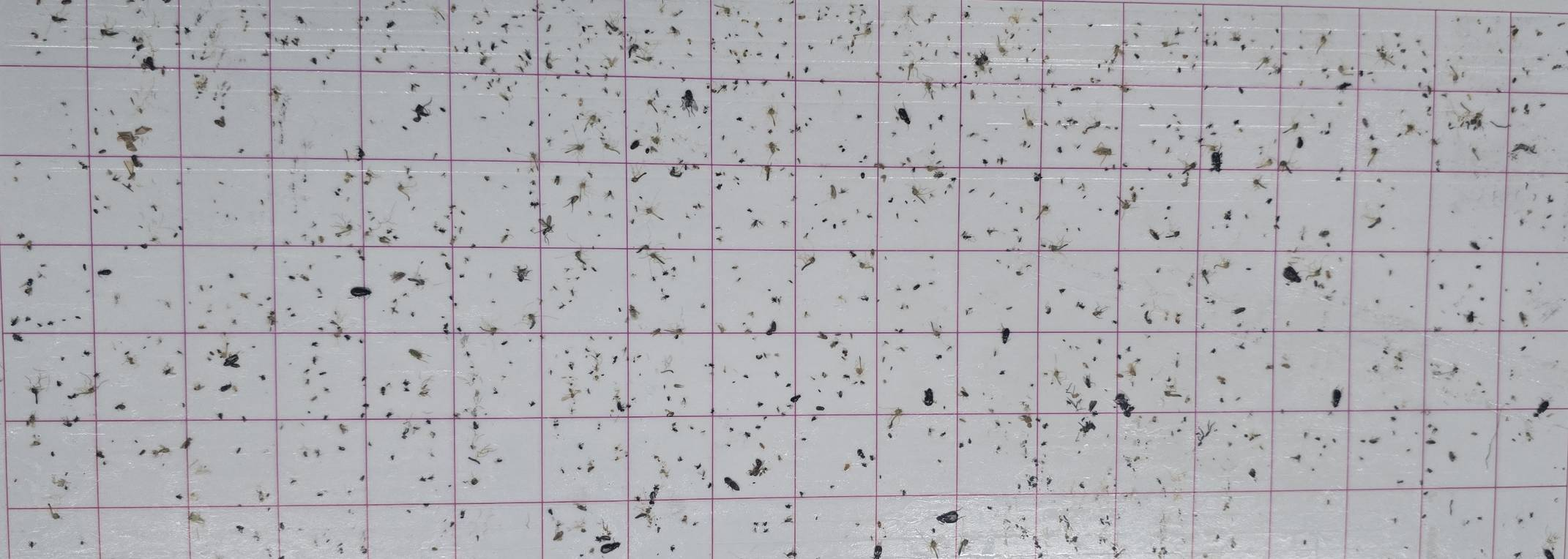fly: (681, 88, 699, 119), (1208, 149, 1224, 174)
test: (1114, 392, 1136, 419), (116, 129, 140, 152), (1462, 111, 1484, 132), (935, 508, 962, 525), (534, 215, 555, 236), (887, 407, 905, 429), (1532, 398, 1550, 420), (1109, 42, 1126, 65), (747, 458, 767, 477), (1512, 141, 1538, 155), (412, 104, 430, 123), (928, 538, 944, 559), (910, 184, 926, 205), (852, 24, 874, 39), (1365, 146, 1380, 168), (972, 51, 990, 69), (1378, 50, 1397, 67), (1000, 323, 1014, 346), (645, 206, 665, 222), (895, 105, 911, 125), (1083, 118, 1103, 134), (582, 111, 597, 132), (1092, 144, 1113, 159), (1022, 107, 1036, 129), (1033, 204, 1051, 221), (1279, 158, 1297, 175), (1281, 120, 1300, 136), (349, 284, 372, 297), (396, 184, 412, 202), (600, 541, 622, 554), (766, 105, 779, 127), (929, 320, 944, 339), (713, 2, 732, 17), (1255, 157, 1274, 172), (957, 537, 971, 557), (478, 323, 499, 336), (1330, 387, 1343, 408), (336, 223, 353, 239), (724, 476, 741, 492), (1253, 55, 1270, 71), (604, 141, 622, 156), (801, 254, 816, 272), (152, 443, 171, 457), (630, 170, 649, 184), (857, 261, 876, 275), (1078, 421, 1097, 435), (1304, 265, 1323, 279), (565, 142, 585, 155), (46, 501, 61, 518), (1117, 194, 1132, 211), (100, 26, 118, 40), (854, 355, 866, 376), (627, 302, 641, 320), (1050, 240, 1069, 253), (1315, 35, 1328, 54), (996, 34, 1007, 56), (141, 57, 156, 73), (604, 18, 620, 33), (563, 388, 580, 402), (50, 13, 68, 26), (28, 384, 41, 402), (224, 354, 242, 367), (1052, 369, 1065, 387), (528, 150, 540, 169), (923, 388, 935, 407), (924, 81, 936, 100), (408, 347, 423, 362), (265, 310, 279, 326), (1181, 161, 1197, 175), (1367, 216, 1383, 230), (1267, 65, 1284, 78), (1164, 228, 1181, 241), (577, 179, 587, 201), (573, 250, 587, 265), (667, 166, 682, 180), (1160, 39, 1181, 49), (1252, 176, 1267, 190), (665, 326, 684, 337), (544, 51, 555, 70), (1213, 260, 1232, 271), (130, 153, 143, 169), (517, 267, 530, 283), (649, 252, 665, 265), (906, 62, 916, 82), (408, 276, 426, 287), (527, 312, 538, 330), (1449, 65, 1460, 83), (1148, 227, 1161, 242), (212, 115, 226, 128), (766, 141, 780, 154), (646, 99, 658, 114), (640, 53, 655, 65), (763, 164, 773, 182), (1163, 390, 1183, 399), (1021, 414, 1033, 429), (1179, 177, 1194, 189), (81, 385, 97, 396), (628, 42, 639, 58), (1201, 269, 1212, 285), (653, 450, 663, 467), (605, 55, 618, 68), (1082, 375, 1094, 389), (1126, 363, 1138, 377), (188, 511, 203, 522), (391, 270, 406, 281), (766, 321, 777, 336), (872, 544, 883, 559), (1231, 305, 1246, 316), (1470, 146, 1481, 161), (24, 278, 34, 294), (1543, 546, 1555, 559), (182, 436, 193, 450), (164, 364, 175, 378), (218, 382, 232, 393), (1091, 308, 1105, 319), (1143, 310, 1154, 324), (356, 146, 366, 161), (1337, 82, 1352, 92), (12, 332, 24, 344), (343, 172, 355, 184), (829, 184, 838, 200), (635, 244, 650, 253), (78, 160, 90, 171), (8, 315, 20, 326), (337, 421, 348, 433), (553, 529, 564, 541), (629, 139, 640, 151), (478, 55, 489, 67), (957, 387, 969, 398), (1032, 172, 1043, 184), (1318, 229, 1330, 240), (1404, 123, 1415, 135), (238, 290, 251, 300), (127, 168, 137, 181), (468, 455, 481, 465), (330, 319, 343, 329), (378, 235, 391, 245), (566, 195, 579, 205), (27, 412, 36, 426), (125, 357, 139, 366), (28, 30, 40, 40), (67, 392, 79, 402), (716, 323, 726, 335), (1222, 210, 1234, 220), (1469, 240, 1481, 250), (96, 269, 113, 276), (595, 534, 612, 541), (1296, 136, 1305, 149), (25, 241, 35, 252), (299, 272, 310, 282), (650, 326, 661, 336), (525, 50, 535, 61), (855, 448, 865, 459), (616, 401, 625, 413), (576, 503, 588, 512), (498, 93, 510, 102), (933, 171, 945, 180), (1070, 84, 1082, 93), (1448, 450, 1457, 462), (1466, 311, 1475, 323), (841, 348, 849, 361), (873, 162, 886, 170), (386, 20, 396, 30), (829, 339, 839, 349), (1216, 375, 1226, 385), (317, 369, 328, 378), (553, 174, 562, 185), (516, 53, 525, 64), (670, 25, 679, 36), (750, 217, 759, 228), (693, 202, 704, 211), (817, 331, 828, 340), (718, 83, 727, 94), (961, 231, 972, 240), (986, 227, 997, 236), (965, 306, 974, 317), (1369, 436, 1380, 445), (1338, 63, 1347, 74), (634, 512, 648, 519), (92, 125, 100, 137), (61, 418, 73, 426), (402, 427, 410, 439), (1175, 312, 1183, 324), (60, 1, 73, 8), (115, 402, 125, 411), (236, 524, 245, 534), (337, 443, 346, 453), (360, 545, 369, 555), (125, 183, 134, 193), (334, 187, 343, 197), (501, 234, 510, 244), (586, 464, 596, 473), (604, 189, 613, 199), (489, 41, 498, 51), (802, 309, 811, 319), (15, 230, 26, 238), (292, 36, 300, 47), (442, 323, 450, 334), (1290, 453, 1301, 461), (1526, 431, 1534, 442), (1519, 311, 1527, 322), (1551, 63, 1562, 71), (314, 447, 321, 459), (338, 542, 345, 554), (1229, 35, 1241, 42), (32, 439, 41, 448), (139, 241, 148, 250), (277, 522, 286, 531), (310, 340, 319, 349), (288, 273, 297, 282), (912, 282, 921, 291), (895, 326, 904, 335), (1077, 301, 1086, 310), (963, 11, 972, 20), (897, 64, 906, 73), (95, 451, 105, 459), (150, 202, 158, 212), (113, 292, 121, 302), (193, 383, 203, 391), (174, 493, 184, 501), (259, 373, 267, 383), (288, 478, 298, 486), (197, 282, 205, 292), (470, 477, 480, 485), (297, 15, 305, 25), (410, 83, 420, 91), (530, 200, 540, 208), (703, 105, 711, 115), (682, 164, 690, 174), (849, 249, 857, 259), (843, 462, 851, 472), (998, 368, 1008, 376), (1018, 205, 1026, 215), (860, 295, 870, 303), (796, 14, 806, 22), (1115, 372, 1125, 380), (1426, 438, 1436, 446), (1394, 355, 1404, 363), (1547, 194, 1555, 204), (380, 386, 387, 397), (545, 23, 552, 34), (1151, 137, 1158, 148), (1362, 117, 1369, 128), (1523, 103, 1530, 114), (159, 67, 168, 75), (127, 96, 135, 105), (96, 148, 108, 154), (82, 350, 91, 358), (55, 380, 63, 389), (217, 412, 225, 421), (235, 446, 243, 455), (321, 414, 330, 422), (365, 169, 373, 178), (199, 55, 211, 61), (281, 38, 290, 46), (791, 394, 800, 402), (662, 293, 671, 301), (501, 21, 509, 30), (500, 38, 509, 46), (450, 4, 458, 13), (926, 427, 934, 436), (899, 345, 907, 354), (967, 187, 976, 195), (950, 175, 958, 184), (998, 156, 1006, 165), (1044, 306, 1052, 315), (880, 174, 888, 183), (875, 71, 883, 80), (1039, 85, 1047, 94), (1130, 193, 1138, 202), (1082, 361, 1090, 370), (1183, 395, 1191, 404), (1123, 85, 1131, 94), (177, 223, 184, 233), (472, 420, 479, 430), (419, 389, 429, 396), (450, 236, 457, 246), (969, 89, 976, 99), (1147, 104, 1157, 111), (1206, 299, 1216, 306), (1265, 363, 1275, 370), (123, 349, 131, 357), (310, 395, 318, 403), (251, 243, 259, 251), (323, 385, 331, 393), (238, 147, 246, 155), (419, 475, 427, 483), (402, 378, 410, 386), (492, 388, 500, 396), (310, 57, 318, 65), (320, 79, 328, 87), (667, 409, 675, 417), (587, 170, 595, 178), (677, 156, 685, 164), (650, 275, 658, 283), (735, 275, 743, 283), (755, 353, 763, 361), (935, 353, 943, 361), (959, 416, 967, 424), (1056, 146, 1064, 154), (1174, 29, 1182, 37), (1265, 197, 1273, 205), (1335, 175, 1343, 183), (1431, 138, 1439, 146), (135, 44, 144, 51), (135, 7, 142, 16), (59, 100, 68, 107), (13, 160, 22, 167), (91, 207, 100, 214), (73, 414, 80, 423), (197, 324, 206, 331), (360, 374, 367, 383), (519, 65, 526, 74), (685, 51, 694, 58), (654, 89, 661, 98), (633, 204, 640, 213), (716, 182, 723, 191), (839, 187, 848, 194), (777, 454, 784, 463), (982, 157, 989, 166), (1057, 287, 1066, 294), (1016, 270, 1025, 277), (742, 49, 749, 58), (1196, 136, 1205, 143), (1421, 66, 1428, 75), (1451, 366, 1460, 373), (460, 509, 466, 519), (613, 355, 619, 365), (796, 156, 802, 166), (816, 405, 826, 411), (1281, 363, 1291, 369), (34, 49, 42, 56), (132, 36, 139, 44), (109, 108, 116, 116), (157, 338, 164, 346), (150, 236, 158, 243), (278, 424, 286, 431), (206, 354, 213, 362), (317, 286, 324, 294), (428, 474, 435, 482), (385, 411, 393, 418), (344, 333, 351, 341), (358, 255, 366, 262), (197, 89, 205, 96), (263, 50, 270, 58), (265, 31, 272, 39), (375, 56, 382, 64), (444, 261, 451, 269), (449, 203, 457, 210), (558, 303, 566, 310), (453, 412, 461, 419), (568, 363, 575, 371), (785, 516, 792, 524), (530, 178, 537, 186), (472, 74, 479, 82), (630, 218, 637, 226), (483, 7, 490, 15), (781, 219, 788, 227), (744, 431, 751, 439), (843, 373, 851, 380), (837, 390, 844, 398), (900, 489, 908, 496), (860, 461, 868, 468), (939, 430, 946, 438), (946, 344, 953, 352), (937, 113, 944, 121), (905, 156, 913, 163), (1075, 143, 1082, 151), (1046, 68, 1053, 76), (1212, 40, 1219, 48), (1274, 223, 1281, 231), (1514, 551, 1522, 558), (1324, 295, 1332, 302), (1421, 92, 1429, 99), (1447, 122, 1454, 130), (1536, 30, 1543, 38), (1512, 28, 1519, 36), (312, 356, 318, 365), (316, 294, 325, 300), (391, 306, 397, 315), (458, 225, 464, 234), (546, 137, 552, 146), (453, 45, 459, 54), (506, 85, 512, 94), (715, 236, 724, 242), (745, 207, 754, 213), (1017, 236, 1023, 245), (741, 18, 750, 24), (1133, 357, 1142, 363), (1099, 517, 1105, 526), (1325, 270, 1331, 279), (1427, 85, 1433, 94), (787, 551, 797, 556), (184, 27, 191, 34), (138, 108, 145, 115), (40, 262, 47, 269), (37, 322, 44, 329), (60, 354, 67, 361), (172, 232, 179, 239), (240, 415, 247, 422), (346, 488, 353, 495), (290, 312, 297, 319), (112, 174, 119, 181), (529, 401, 536, 408), (364, 15, 371, 22), (439, 228, 446, 235), (386, 228, 393, 235), (580, 527, 587, 534), (607, 212, 614, 219), (472, 14, 479, 21), (644, 147, 651, 154), (383, 3, 390, 10), (574, 56, 581, 63), (585, 71, 592, 78), (738, 157, 745, 164), (771, 296, 778, 303), (780, 92, 787, 99), (829, 483, 836, 490), (930, 527, 937, 534), (936, 458, 943, 465), (848, 332, 855, 339), (883, 339, 890, 346), (781, 40, 788, 47), (774, 52, 781, 59), (757, 31, 764, 38), (756, 51, 763, 58), (733, 174, 740, 181), (910, 167, 917, 174), (862, 154, 869, 161), (927, 280, 934, 287), (809, 374, 816, 381), (935, 159, 942, 166), (928, 254, 935, 261), (1022, 140, 1029, 147), (791, 194, 798, 201), (946, 183, 953, 190), (1206, 122, 1213, 129), (1233, 119, 1240, 126), (1167, 172, 1174, 179), (1274, 215, 1281, 222), (1092, 410, 1099, 417), (1317, 327, 1324, 334), (1422, 489, 1429, 496), (1432, 427, 1439, 434), (1382, 349, 1389, 356), (1371, 364, 1378, 371), (1426, 106, 1433, 113), (1394, 31, 1401, 38), (1498, 48, 1505, 55), (102, 205, 110, 211), (82, 263, 88, 271), (83, 288, 91, 294), (47, 320, 55, 326), (176, 348, 182, 356), (122, 245, 130, 251), (164, 300, 172, 306), (258, 497, 266, 503), (317, 492, 325, 498), (302, 451, 308, 459), (266, 294, 272, 302), (230, 318, 238, 324), (413, 426, 421, 432), (363, 180, 371, 186), (529, 119, 535, 127), (578, 443, 584, 451), (759, 442, 765, 450), (561, 91, 567, 99), (464, 45, 470, 53), (477, 40, 483, 48), (511, 14, 519, 20), (687, 37, 693, 45), (587, 23, 595, 29), (670, 266, 678, 272), (661, 270, 669, 276), (767, 127, 773, 135), (685, 213, 691, 221), (867, 212, 873, 220), (788, 172, 796, 178), (837, 89, 843, 97), (774, 370, 780, 378), (754, 424, 762, 430), (887, 432, 893, 440), (786, 403, 794, 409), (834, 331, 842, 337), (995, 420, 1001, 428), (796, 125, 802, 133), (762, 79, 768, 87), (803, 66, 809, 74), (928, 123, 934, 131), (1005, 306, 1013, 312), (989, 191, 995, 199), (899, 303, 905, 311), (870, 248, 876, 256), (930, 12, 938, 18), (1009, 32, 1015, 40), (973, 69, 979, 77), (1165, 147, 1171, 155), (1238, 86, 1244, 94), (1194, 26, 1200, 34), (1126, 345, 1132, 353), (1174, 359, 1180, 367), (1338, 166, 1344, 174), (1312, 280, 1318, 288), (1557, 21, 1565, 27), (1433, 327, 1441, 333), (987, 67, 993, 75), (163, 0, 172, 5), (677, 231, 682, 240), (581, 24, 586, 33), (714, 225, 723, 230), (860, 171, 865, 180), (967, 436, 972, 445), (1359, 69, 1364, 78), (35, 1, 42, 7), (176, 40, 182, 47), (69, 143, 76, 149), (44, 174, 51, 180), (38, 272, 44, 279), (24, 315, 30, 322), (93, 371, 100, 377), (50, 451, 56, 458), (62, 471, 69, 477), (138, 223, 145, 229), (257, 488, 263, 495), (360, 475, 366, 482), (217, 347, 223, 354), (303, 367, 310, 373), (448, 521, 454, 528), (497, 457, 503, 464), (429, 451, 435, 458), (421, 383, 428, 389), (470, 443, 476, 450), (556, 521, 562, 528), (301, 232, 307, 239), (211, 95, 218, 101), (409, 63, 415, 70), (440, 105, 446, 112), (433, 223, 440, 229), (364, 231, 370, 238), (484, 175, 490, 182), (461, 209, 467, 216), (481, 114, 487, 121), (570, 289, 576, 296), (501, 340, 508, 346), (553, 421, 559, 428), (589, 547, 595, 554), (695, 462, 701, 469), (785, 503, 792, 509), (708, 362, 715, 368), (591, 266, 598, 272), (539, 9, 545, 16), (513, 80, 519, 87), (603, 87, 609, 94), (584, 64, 591, 70), (574, 69, 581, 75), (562, 128, 569, 134), (632, 59, 639, 65), (615, 91, 621, 98), (721, 134, 727, 141), (602, 124, 609, 130), (671, 114, 678, 120), (586, 36, 592, 43), (551, 5, 558, 11), (658, 287, 665, 293), (731, 264, 738, 270), (788, 278, 795, 284), (821, 216, 827, 223), (732, 148, 738, 155), (715, 171, 721, 178), (856, 113, 863, 119), (785, 382, 792, 388), (811, 415, 817, 422), (895, 286, 902, 292), (781, 411, 787, 418), (958, 442, 964, 449), (766, 287, 772, 294), (804, 232, 810, 239), (745, 79, 751, 86), (732, 85, 739, 91), (732, 79, 739, 85), (714, 10, 720, 17), (808, 44, 814, 51), (836, 34, 843, 40), (888, 197, 895, 203), (890, 130, 897, 136), (913, 218, 919, 225), (901, 161, 907, 168), (1013, 227, 1020, 233), (1059, 178, 1065, 185), (1113, 209, 1120, 215), (1113, 266, 1119, 273), (1112, 319, 1118, 326), (1082, 194, 1088, 201), (1122, 161, 1128, 168), (919, 55, 925, 62), (816, 15, 822, 22), (941, 82, 947, 89), (952, 81, 958, 88), (1014, 75, 1021, 81), (1049, 82, 1055, 89), (1098, 206, 1104, 213), (1057, 99, 1063, 106), (1042, 121, 1049, 127), (1016, 45, 1023, 51), (1003, 27, 1009, 34), (1133, 32, 1140, 38), (1177, 66, 1183, 73), (1178, 134, 1185, 140), (1223, 17, 1230, 23), (1241, 44, 1247, 51), (1182, 54, 1189, 60), (1155, 267, 1161, 274), (876, 521, 882, 528), (995, 445, 1001, 452), (1117, 353, 1123, 360), (1239, 344, 1245, 351), (1210, 347, 1216, 354), (1303, 432, 1309, 439), (1254, 432, 1261, 438), (1248, 436, 1255, 442), (1359, 438, 1366, 444), (1391, 415, 1397, 422), (1427, 467, 1433, 474), (1392, 517, 1398, 524), (1518, 518, 1524, 525), (1439, 283, 1445, 290), (1324, 129, 1330, 136), (1285, 320, 1291, 327), (1520, 345, 1527, 351), (1546, 213, 1552, 220), (1539, 102, 1546, 108), (1511, 106, 1517, 113), (1321, 67, 1328, 73), (1421, 50, 1427, 57), (1486, 27, 1492, 34), (1496, 87, 1502, 94), (92, 194, 100, 199), (75, 315, 83, 320), (278, 554, 286, 559), (548, 508, 553, 516), (319, 235, 324, 243), (302, 175, 307, 183), (193, 73, 201, 78), (394, 43, 399, 51), (382, 46, 387, 54), (488, 272, 493, 280), (539, 298, 544, 306), (586, 387, 591, 395), (735, 116, 743, 121), (895, 212, 900, 220), (1097, 338, 1102, 346), (952, 51, 960, 56), (1275, 27, 1280, 35), (1388, 269, 1393, 277), (131, 53, 137, 59), (79, 540, 85, 546), (28, 540, 34, 546), (236, 503, 242, 509), (228, 272, 234, 278), (209, 284, 215, 290), (209, 350, 215, 356), (305, 379, 311, 385), (390, 454, 396, 460), (367, 440, 373, 446), (423, 502, 429, 508), (406, 508, 412, 514), (432, 546, 438, 552), (426, 419, 432, 425), (218, 180, 224, 186), (186, 166, 192, 172), (402, 125, 408, 131), (358, 23, 364, 29), (411, 205, 417, 211), (370, 216, 376, 222), (464, 256, 470, 262), (506, 146, 512, 152), (564, 267, 570, 273), (456, 326, 462, 332), (564, 349, 570, 355), (636, 353, 642, 359), (669, 545, 675, 551), (757, 401, 763, 407), (677, 456, 683, 462), (700, 303, 706, 309), (595, 352, 601, 358), (588, 369, 594, 375), (638, 194, 644, 200), (544, 41, 550, 47), (577, 42, 583, 48), (587, 209, 593, 215), (743, 373, 749, 379), (852, 380, 858, 386), (869, 455, 875, 461), (888, 365, 894, 371), (813, 515, 819, 521), (838, 143, 844, 149), (841, 148, 847, 154), (787, 70, 791, 79), (841, 218, 847, 224), (928, 192, 934, 198), (1117, 284, 1123, 290), (858, 2, 864, 8), (849, 10, 855, 16), (969, 131, 975, 137), (1087, 23, 1093, 29), (999, 6, 1005, 12), (861, 9, 867, 15), (792, 105, 798, 111), (930, 149, 936, 155), (1025, 57, 1031, 63), (1047, 28, 1053, 34), (1067, 117, 1073, 123), (1134, 52, 1140, 58), (1111, 164, 1117, 170), (1096, 78, 1102, 84), (1204, 39, 1210, 45), (1282, 50, 1288, 56), (1129, 186, 1135, 192), (1040, 441, 1046, 447), (1042, 423, 1048, 429), (1065, 399, 1071, 405), (1235, 396, 1241, 402), (1140, 302, 1146, 308), (1321, 444, 1327, 450), (1075, 345, 1081, 351), (1261, 327, 1267, 333), (1236, 322, 1242, 328), (1394, 405, 1400, 411), (1477, 515, 1483, 521), (1403, 545, 1409, 551), (1529, 512, 1535, 518), (1511, 437, 1517, 443), (1379, 253, 1385, 259), (1369, 134, 1375, 140), (1397, 132, 1403, 138), (1337, 101, 1343, 107), (1258, 150, 1264, 156), (1475, 264, 1481, 270), (1327, 30, 1333, 36), (1400, 48, 1406, 54), (1441, 93, 1447, 99), (92, 108, 99, 113), (181, 401, 186, 408), (257, 302, 264, 307), (286, 306, 293, 311), (363, 402, 370, 407), (360, 412, 365, 419), (432, 430, 437, 437), (403, 387, 410, 392), (359, 338, 364, 345), (213, 198, 218, 205), (335, 254, 342, 259), (393, 297, 398, 304), (191, 53, 196, 60), (433, 152, 438, 159), (392, 235, 399, 240), (368, 226, 373, 233), (471, 243, 476, 250), (465, 351, 470, 358), (609, 335, 614, 342), (666, 395, 671, 402), (692, 521, 697, 528), (692, 255, 697, 262), (596, 233, 603, 238), (532, 7, 537, 14), (486, 85, 491, 92), (597, 117, 602, 124), (665, 104, 672, 109), (696, 125, 703, 130), (567, 45, 572, 52), (832, 223, 837, 230), (776, 406, 781, 413), (881, 356, 886, 363), (856, 521, 861, 528), (644, 29, 651, 34), (736, 58, 741, 65), (829, 38, 834, 45), (904, 304, 911, 309), (644, 41, 651, 46), (934, 49, 939, 56), (927, 17, 932, 24), (992, 91, 997, 98), (1056, 119, 1061, 126), (1102, 167, 1109, 172), (1090, 76, 1095, 83), (1166, 122, 1171, 129), (1210, 131, 1217, 136), (1303, 538, 1308, 545), (1332, 437, 1337, 444), (1397, 479, 1404, 484), (1280, 408, 1285, 415), (1471, 431, 1478, 436), (1326, 241, 1331, 248), (1519, 218, 1524, 225), (1512, 77, 1517, 84), (1461, 71, 1466, 78), (476, 534, 480, 542), (993, 350, 997, 358), (1183, 415, 1187, 423), (42, 37, 47, 43), (127, 0, 133, 5), (13, 175, 18, 181), (61, 317, 66, 323), (140, 449, 145, 455), (251, 344, 256, 350), (326, 538, 331, 544), (410, 311, 415, 317), (234, 216, 239, 222), (176, 181, 182, 186), (308, 264, 313, 270), (311, 222, 317, 227), (356, 249, 362, 254), (241, 8, 247, 13), (262, 13, 267, 19), (273, 89, 278, 95), (407, 175, 413, 180), (460, 273, 465, 279), (505, 227, 510, 233), (584, 347, 589, 353), (708, 482, 713, 488), (729, 426, 734, 432), (626, 403, 632, 408), (799, 490, 804, 496), (672, 428, 678, 433), (672, 421, 677, 427), (528, 190, 533, 196), (462, 84, 468, 89), (556, 74, 561, 80), (503, 184, 509, 189), (860, 380, 866, 385), (816, 388, 822, 393), (662, 384, 667, 390), (942, 405, 947, 411), (883, 378, 888, 384), (804, 121, 809, 127), (789, 128, 795, 133), (778, 17, 783, 23), (858, 159, 864, 164), (943, 190, 948, 196), (1041, 243, 1047, 248), (736, 10, 741, 16), (789, 1, 795, 6), (849, 19, 855, 24), (825, 5, 830, 11), (728, 48, 733, 54), (894, 30, 899, 36), (897, 92, 902, 98), (1032, 47, 1037, 53), (946, 35, 951, 41), (963, 74, 968, 80), (855, 26, 861, 31), (1032, 18, 1038, 23), (1105, 124, 1111, 129), (1147, 167, 1153, 172), (1176, 127, 1181, 133), (1191, 63, 1196, 69), (1063, 124, 1069, 129), (1166, 205, 1172, 210), (1244, 214, 1249, 220), (1186, 282, 1192, 287), (1035, 418, 1041, 423), (986, 505, 992, 510), (1092, 356, 1098, 361), (1204, 294, 1209, 300), (1080, 416, 1086, 421), (1176, 428, 1182, 433), (1166, 377, 1171, 383), (1219, 397, 1224, 403), (1078, 483, 1084, 488), (1315, 436, 1320, 442), (1326, 499, 1331, 505), (1259, 445, 1264, 451), (1421, 513, 1426, 519), (1391, 429, 1397, 434), (1427, 423, 1433, 428), (1476, 381, 1481, 387), (1481, 390, 1486, 396), (1309, 113, 1315, 118), (1258, 145, 1264, 150), (1376, 178, 1382, 183), (1435, 167, 1441, 172), (1337, 257, 1343, 262), (1480, 296, 1485, 302), (1430, 258, 1435, 264), (1526, 288, 1532, 293), (1325, 74, 1330, 80), (1401, 64, 1407, 69), (1350, 66, 1355, 72), (1537, 57, 1543, 62), (305, 410, 312, 414), (406, 167, 410, 174), (561, 468, 565, 475), (618, 306, 622, 313), (657, 526, 661, 533), (497, 76, 501, 83), (879, 473, 883, 480), (902, 53, 909, 57), (1225, 223, 1229, 230), (1245, 267, 1252, 271), (1158, 478, 1162, 485), (1328, 122, 1332, 129), (1477, 18, 1481, 25), (1525, 69, 1529, 76), (176, 30, 181, 35), (133, 438, 138, 443), (102, 461, 107, 466), (142, 345, 147, 350), (147, 334, 152, 339), (225, 213, 230, 218), (285, 240, 290, 245), (220, 104, 225, 109), (282, 102, 287, 107), (386, 34, 391, 39), (491, 300, 496, 305), (552, 285, 557, 290), (568, 299, 573, 304), (508, 360, 513, 365), (577, 466, 582, 471), (570, 408, 575, 413), (589, 336, 594, 341), (689, 425, 694, 430), (726, 443, 731, 448), (710, 408, 715, 413), (764, 528, 769, 533), (754, 521, 759, 526), (591, 245, 596, 250), (487, 81, 492, 86), (576, 115, 581, 120), (808, 116, 813, 121), (818, 174, 823, 179), (820, 78, 825, 83), (622, 15, 627, 20), (904, 199, 909, 204), (967, 4, 972, 9), (850, 4, 855, 9), (1077, 185, 1082, 190), (1136, 22, 1141, 27), (1204, 85, 1209, 90), (1172, 113, 1177, 118), (1164, 215, 1169, 220), (1243, 433, 1248, 438), (1147, 334, 1152, 339), (1105, 515, 1110, 520), (1359, 456, 1364, 461), (1406, 447, 1411, 452), (1420, 480, 1425, 485), (1380, 204, 1385, 209), (1238, 128, 1243, 133), (1409, 304, 1414, 309), (1332, 289, 1337, 294), (1535, 262, 1540, 267), (1538, 281, 1543, 286), (1467, 283, 1472, 288), (1541, 225, 1546, 230), (1299, 80, 1304, 85), (1368, 70, 1373, 75), (1416, 39, 1421, 44), (1269, 45, 1274, 50), (1446, 58, 1451, 63), (1400, 109, 1405, 114), (1527, 210, 1532, 215), (1044, 55, 1049, 60), (175, 25, 181, 29), (265, 493, 271, 497), (260, 198, 264, 204), (267, 174, 271, 180), (332, 48, 336, 54), (442, 172, 446, 178), (367, 209, 371, 215), (441, 253, 447, 257), (576, 275, 580, 281), (549, 369, 553, 375), (682, 397, 686, 403), (545, 87, 549, 93), (847, 44, 850, 52), (1077, 227, 1081, 233), (1039, 12, 1045, 16), (1097, 63, 1101, 69), (1114, 126, 1120, 130), (1177, 120, 1181, 126), (1198, 12, 1202, 18), (1232, 423, 1236, 429), (1487, 236, 1493, 240), (1417, 81, 1421, 87), (1397, 42, 1401, 48), (1417, 131, 1421, 137), (1510, 24, 1516, 28), (13, 478, 18, 482), (206, 308, 211, 312), (448, 483, 452, 488), (318, 326, 322, 331), (294, 209, 298, 214), (402, 292, 407, 296), (449, 295, 454, 299), (446, 214, 450, 219), (540, 335, 544, 340), (528, 338, 532, 343), (470, 365, 475, 369), (579, 553, 584, 557), (763, 416, 768, 420), (802, 437, 807, 441), (763, 521, 767, 526), (813, 202, 818, 206), (681, 77, 685, 82), (727, 33, 731, 38), (835, 14, 840, 18), (735, 33, 739, 38), (959, 123, 963, 128), (983, 138, 988, 142), (850, 50, 855, 54), (1107, 67, 1111, 72), (1140, 186, 1145, 190), (1029, 383, 1034, 387), (1043, 372, 1048, 376), (1150, 377, 1154, 382), (1077, 450, 1081, 455), (1311, 467, 1315, 472), (1068, 345, 1073, 349), (1414, 431, 1419, 435), (1391, 226, 1395, 231), (1456, 312, 1461, 316), (1299, 45, 1303, 50), (1195, 54, 1199, 59), (1250, 39, 1255, 43), (1456, 18, 1461, 22), (1459, 55, 1463, 60), (1522, 66, 1526, 71), (1370, 78, 1375, 82), (1041, 60, 1046, 64), (454, 301, 457, 307), (548, 112, 551, 118), (704, 152, 707, 158), (267, 507, 271, 511), (283, 260, 287, 264), (441, 315, 445, 319), (817, 9, 821, 13), (1517, 432, 1521, 436), (1375, 299, 1379, 303), (1391, 186, 1395, 190), (1399, 366, 1403, 370), (1504, 288, 1508, 292), (1206, 33, 1210, 37), (1425, 130, 1429, 134), (1299, 30, 1303, 34), (1433, 64, 1437, 68), (1501, 318, 1505, 322), (1016, 94, 1020, 98), (701, 430, 706, 433), (1565, 49, 1568, 54), (216, 210, 219, 214), (825, 13, 828, 17), (1062, 339, 1066, 342), (1451, 210, 1455, 213), (1532, 336, 1535, 340), (1273, 76, 1273, 77)
